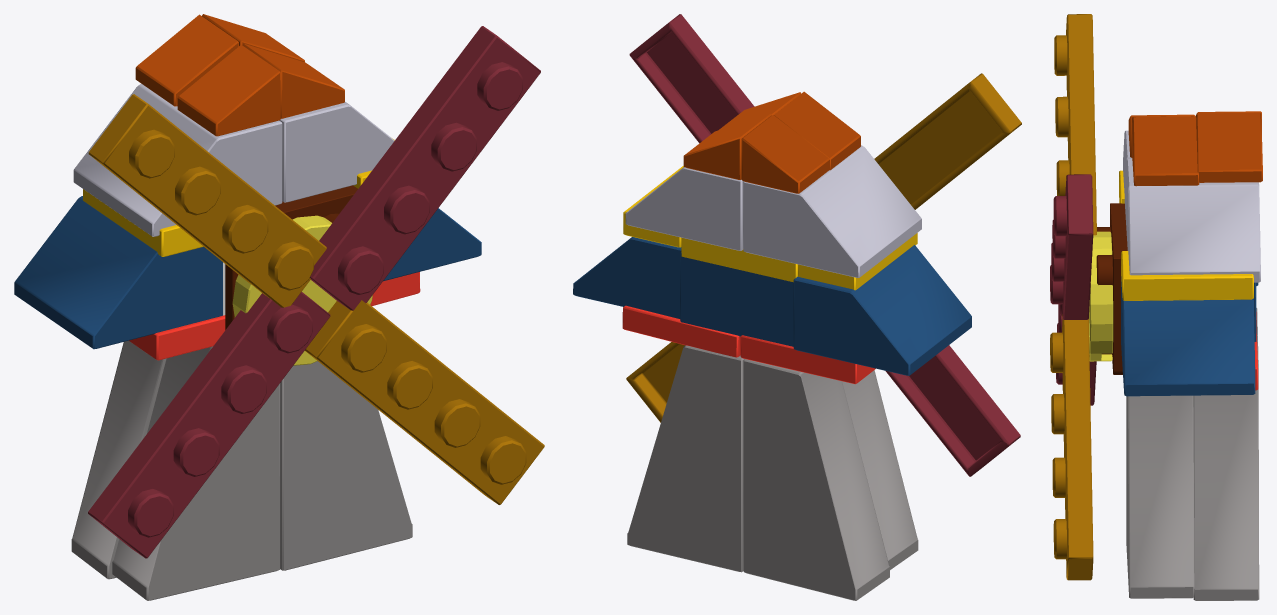
File: building_38.fbx
The picture shows the model from 3 angles, left to right: view 1: azimuth 30°, elevation 25°; view 2: azimuth 150°, elevation 25°; view 3: azimuth 270°, elevation 25°; orthographic projection. The views are drawn at different scales.
Visible parts, largest first — view 1: L1x2Slope10; view 2: L1x2Slope10; view 3: L1x2Slope10.
Part boxes in pixels (x1,y1,x2,y2): L1x2Slope10: (14, 14, 544, 600); L1x2Slope10: (573, 14, 1021, 600); L1x2Slope10: (1050, 14, 1262, 600).
Bounding box in the file's own units: 798 × 925 × 387.
